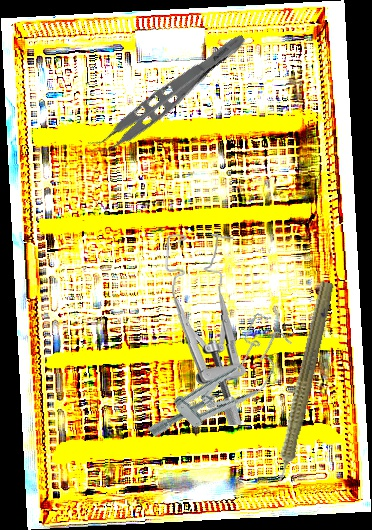Handpiece: (262, 278, 339, 499)
Speculum: (139, 308, 303, 464), (158, 232, 252, 426)
Tissue Forceps: (85, 19, 250, 166)
